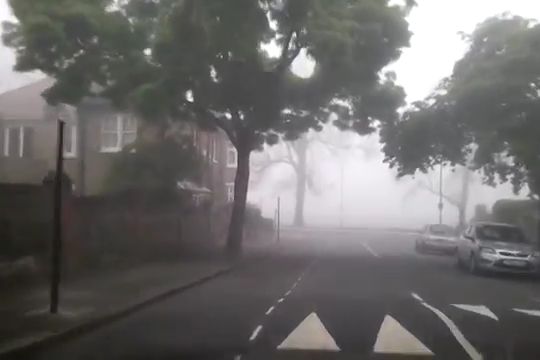car: (456, 219, 540, 278), (414, 220, 459, 255)
